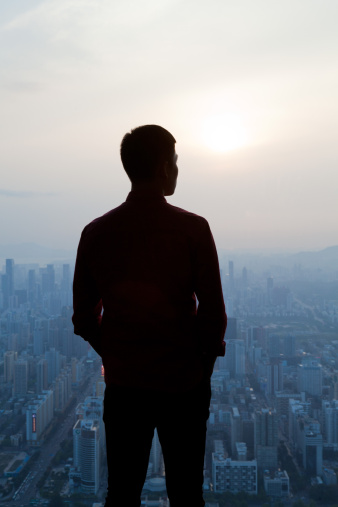em pe: (73, 121, 235, 507)
